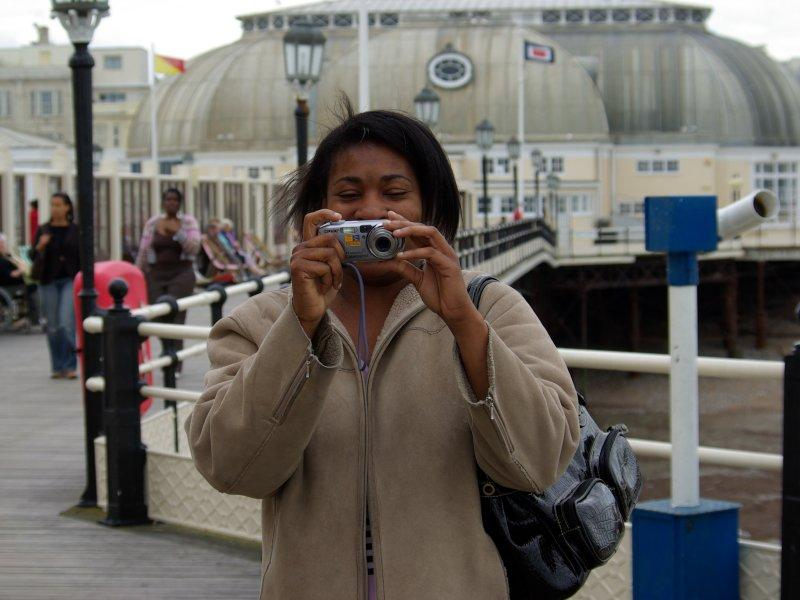person: (184, 110, 580, 600)
